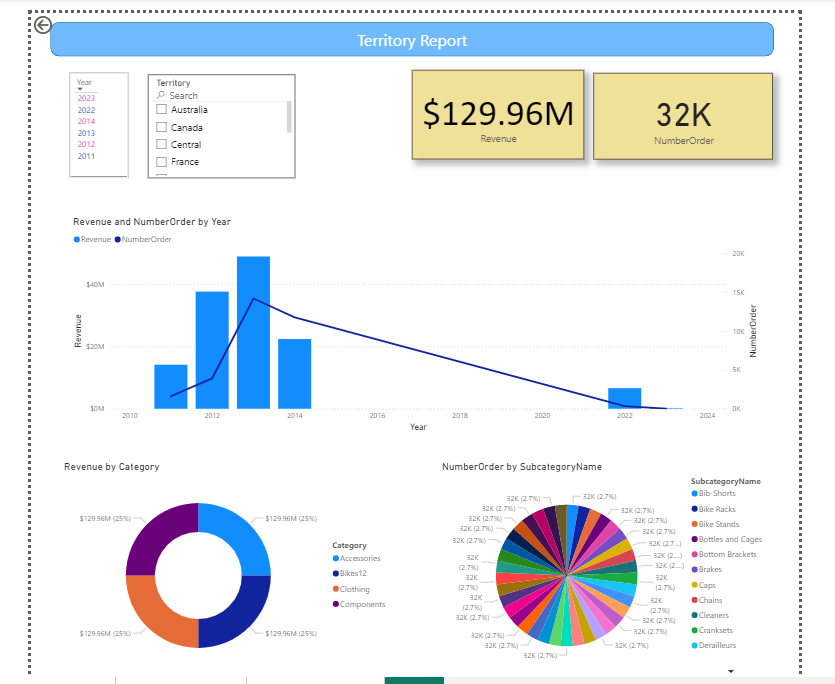

What the dashboard file says about the page in this screenshot:
{"tool":"powerbi","page":{"name":"Territory","canvas":[1280,1200],"ordinal":1},"visuals":[{"type":"tableEx","fields":{"Values":["lesson3 Dim_Year.Year"]},"box":[65.1,100.6,96.8,173.4],"z":0},{"type":"shape","title":"Shape","box":[31.4,14.3,1205.7,57.1],"z":1000},{"type":"card","title":"Revenue","fields":{"Values":["Sum(lesson3 Fact_SalesOrder.Revenue)"]},"box":[634.3,95.8,286.5,148.5],"z":2000},{"type":"card","fields":{"Values":["Sum(lesson3 Fact_SalesOrder.NumberOrder)"]},"box":[938,100.6,298.9,143.7],"z":3000},{"type":"actionButton","box":[0,0,100,40],"z":4000},{"type":"lineStackedColumnComboChart","fields":{"Category":["lesson3 Dim_Date.Date.Variation.Date Hierarchy.Year","lesson3 Dim_Date.Date.Variation.Date Hierarchy.Quarter","lesson3 Dim_Date.Date.Variation.Date Hierarchy.Month","lesson3 Dim_Date.Date.Variation.Date Hierarchy.Day"],"Y":["Sum(lesson3 Fact_SalesOrder.Revenue)"],"Y2":["Sum(lesson3 Fact_SalesOrder.NumberOrder)"]},"box":[65.4,338.3,1149.9,364.7],"z":5000},{"type":"slicer","fields":{"Values":["lesson3 Dim_Territory.Name"]},"box":[194.9,101.6,245,172.6],"z":6000},{"type":"pieChart","fields":{"Category":["lesson3 Dim_Product.Name Hierarchy.Name","lesson3 Dim_Product.Name Hierarchy.SubcategoryName","lesson3 Dim_Product.Name Hierarchy.Category"],"Y":["Sum(lesson3 Fact_SalesOrder.NumberOrder)"]},"box":[681,744,556,365],"z":7000},{"type":"donutChart","fields":{"Category":["lesson3 Dim_Product.Name Hierarchy.Name","lesson3 Dim_Product.Name Hierarchy.SubcategoryName","lesson3 Dim_Product.Name Hierarchy.Category"],"Y":["Sum(lesson3 Fact_SalesOrder.Revenue)"]},"box":[50,744,555,365],"z":8000}]}

Visuals, with their boxes on the page's 1280x1200 design canvas (x1, y1, x2, y2). These are canvas units, not pixel positions in the 835x684 screenshot, which may show the page scaled, cropped or inside an application window:
tableEx - lesson3 Dim_Year.Year: [65,101,162,274]
"Shape" shape: [31,14,1237,71]
"Revenue" card: [634,96,921,244]
card - Sum(lesson3 Fact_SalesOrder.NumberOrder): [938,101,1237,244]
actionButton: [0,0,100,40]
lineStackedColumnComboChart - lesson3 Dim_Date.Date.Variation.Date Hierarchy.Year x lesson3 Dim_Date.Date.Variation.Date Hierarchy.Quarter: [65,338,1215,703]
slicer - lesson3 Dim_Territory.Name: [195,102,440,274]
pieChart - lesson3 Dim_Product.Name Hierarchy.Name x lesson3 Dim_Product.Name Hierarchy.SubcategoryName: [681,744,1237,1109]
donutChart - lesson3 Dim_Product.Name Hierarchy.Name x lesson3 Dim_Product.Name Hierarchy.SubcategoryName: [50,744,605,1109]
